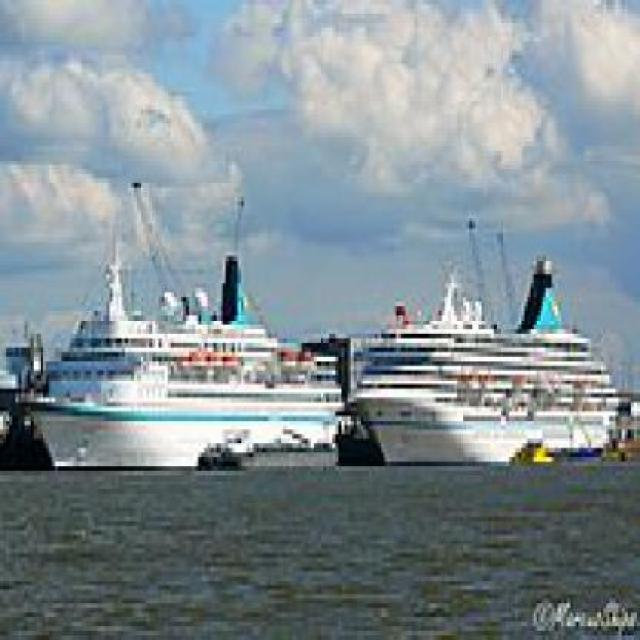cruise: (23, 170, 361, 481), (346, 198, 629, 490)
